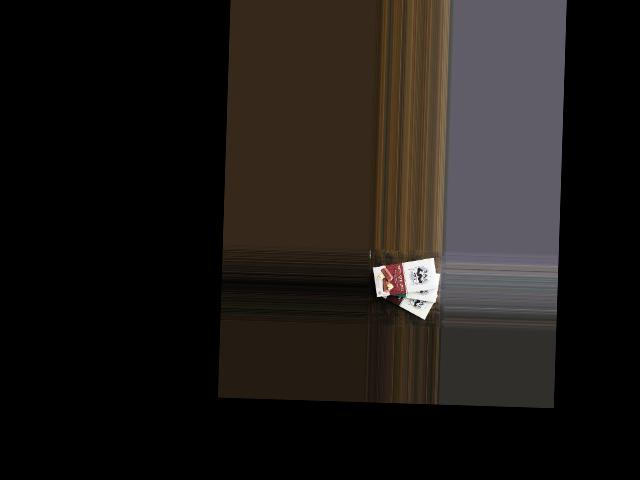chocolate: (371, 276, 439, 320)
